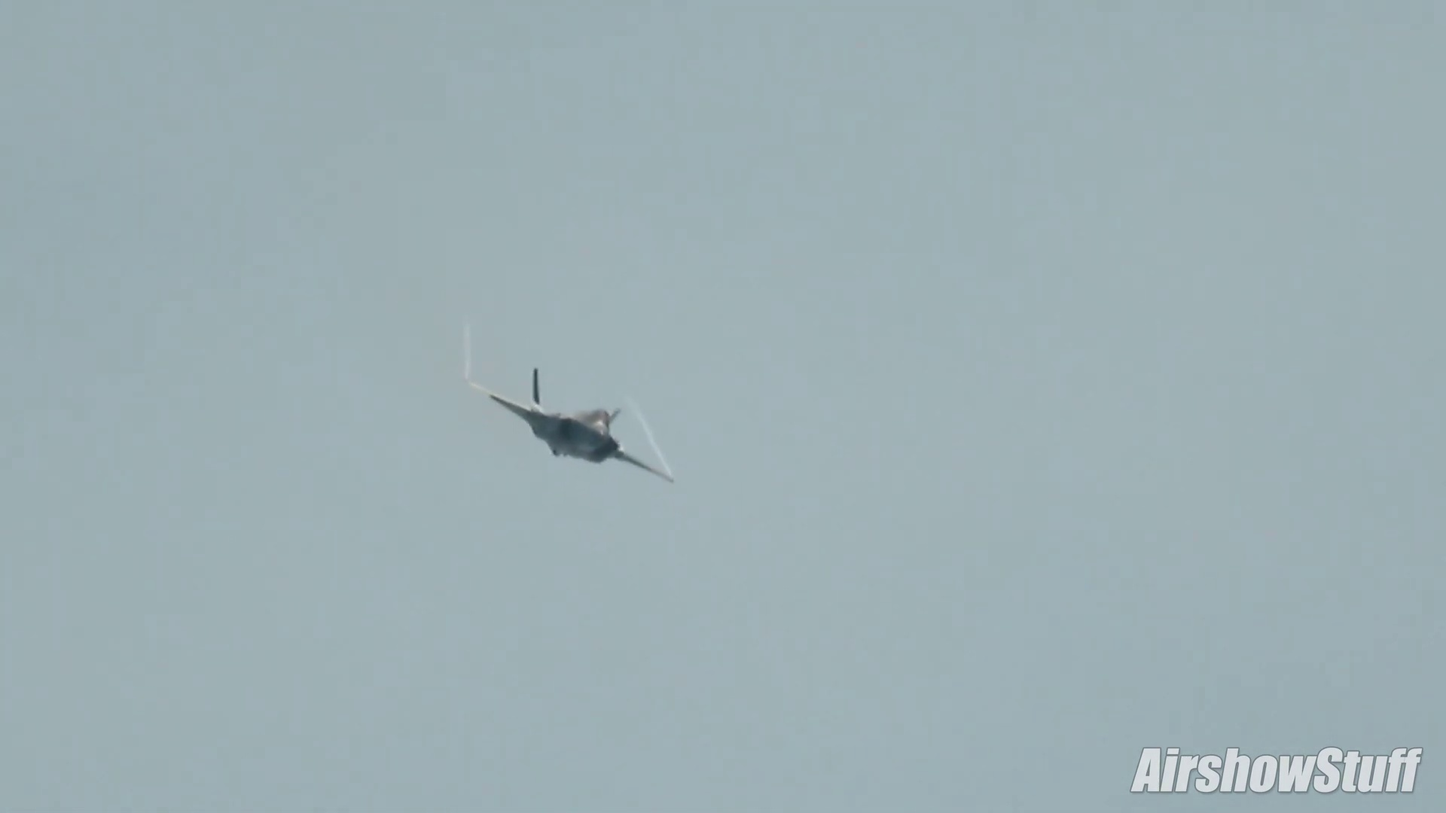F35: (484, 362, 684, 488)
